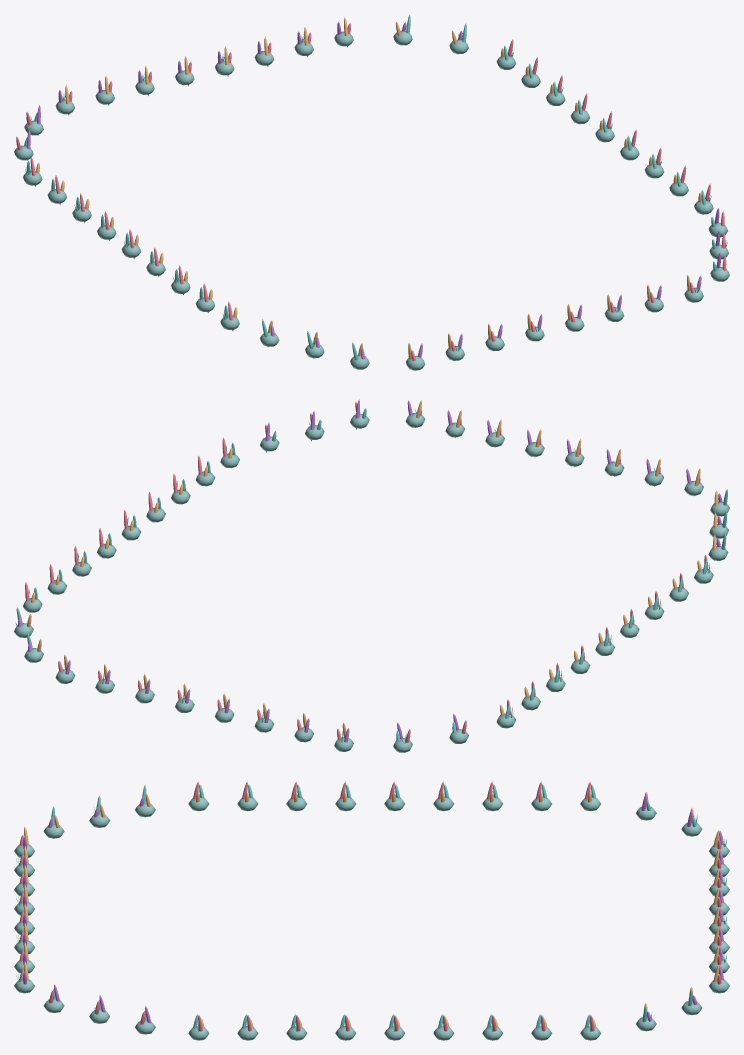
The model's file is reef-18-CMTxq-Vr.glb.
3 renders of one model, top to bottom at view 1: azimuth 30°, elevation 25°; view 2: azimuth 150°, elevation 25°; view 3: azimuth 270°, elevation 25°, orthographic.
Visible parts, largest first — view 1: ReefRock, Coral0, Coral2, Coral3, Coral1; view 2: ReefRock, Coral2, Coral0, Coral1, Coral3; view 3: ReefRock, Coral0, Coral2, Coral3, Coral1.
Boxes of the visible parts, left/top/right/bottom form: ReefRock: left=14, top=30, right=729, bottom=370; Coral0: left=16, top=23, right=726, bottom=361; Coral2: left=35, top=17, right=701, bottom=359; Coral3: left=24, top=14, right=716, bottom=359; Coral1: left=26, top=22, right=720, bottom=359; ReefRock: left=14, top=413, right=729, bottom=752; Coral2: left=27, top=400, right=718, bottom=737; Coral0: left=25, top=401, right=708, bottom=742; Coral1: left=18, top=399, right=722, bottom=742; Coral3: left=16, top=408, right=727, bottom=741; ReefRock: left=14, top=797, right=729, bottom=1040; Coral0: left=19, top=781, right=721, bottom=1040; Coral2: left=24, top=792, right=719, bottom=1027; Coral3: left=51, top=784, right=696, bottom=1028; Coral1: left=23, top=794, right=723, bottom=1033.
Size of the model in its own units: 37 by 2.06 by 47.1.
